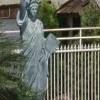Statue: (6, 0, 61, 90)
